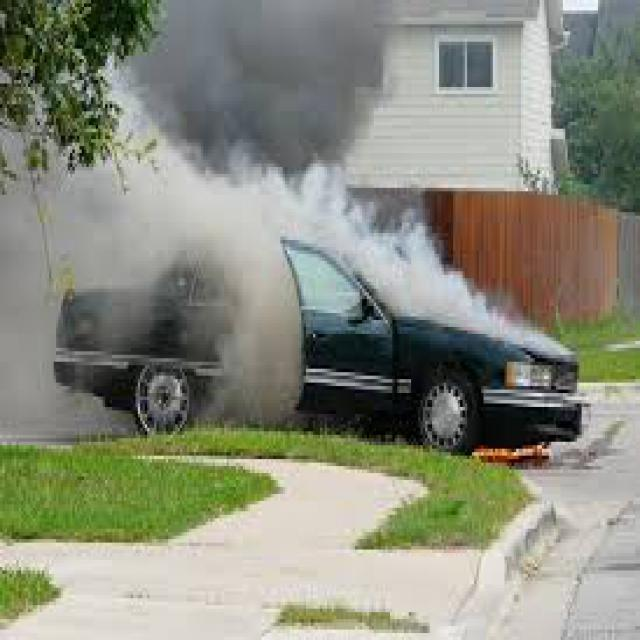Smoke: (7, 10, 572, 454)
